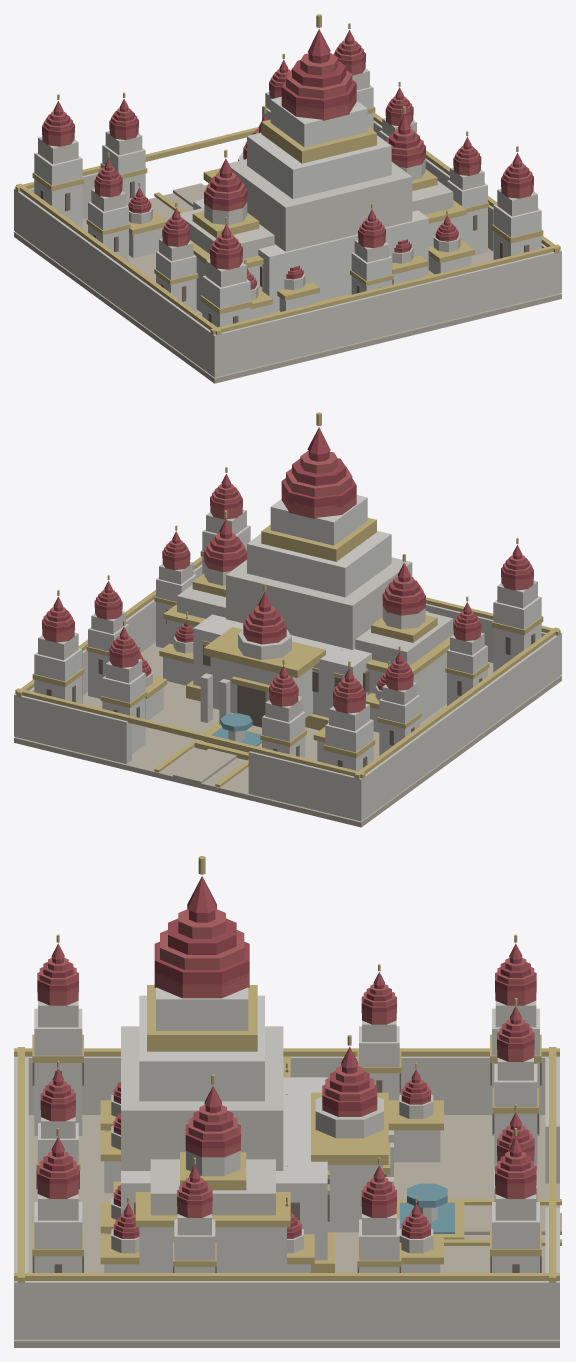
File: arabian_palace_v3 (1) (1).glb
The picture shows the model from 3 angles, top to bottom: view 1: azimuth 30°, elevation 25°; view 2: azimuth 150°, elevation 25°; view 3: azimuth 270°, elevation 25°; orthographic projection. The views are drawn at different scales.
Parts seen in each view (by area): view 1: Arabian Palace; view 2: Arabian Palace; view 3: Arabian Palace.
Boxes of the visible parts, x1,y1,x2,y2 form: Arabian Palace: (14,14,561,383); Arabian Palace: (14,412,561,827); Arabian Palace: (14,856,561,1347).
Bounding box in the file's own units: 148 × 112 × 148.
